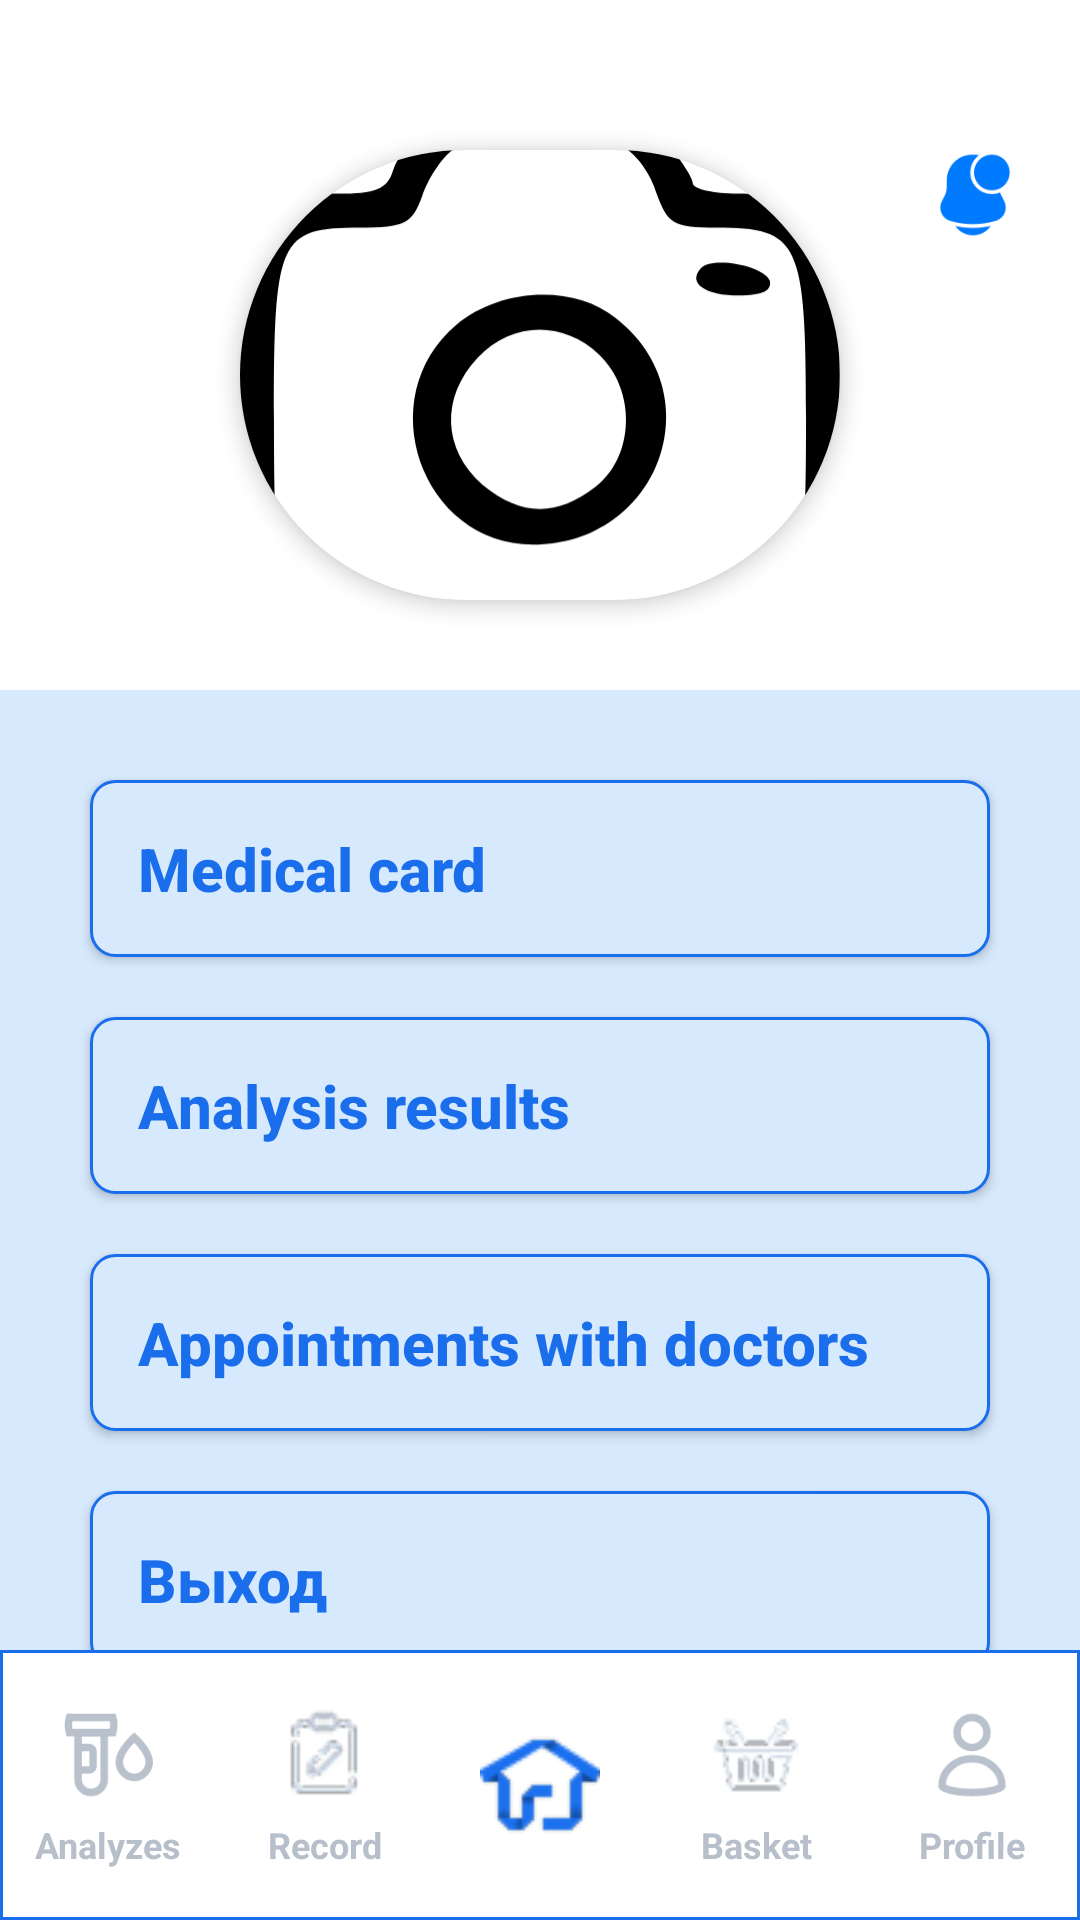

Named icons in this screenshot (1080×1920) and their bounding boxes, (x1, y1, x2, y2):
notification: (940, 154, 1010, 236)
